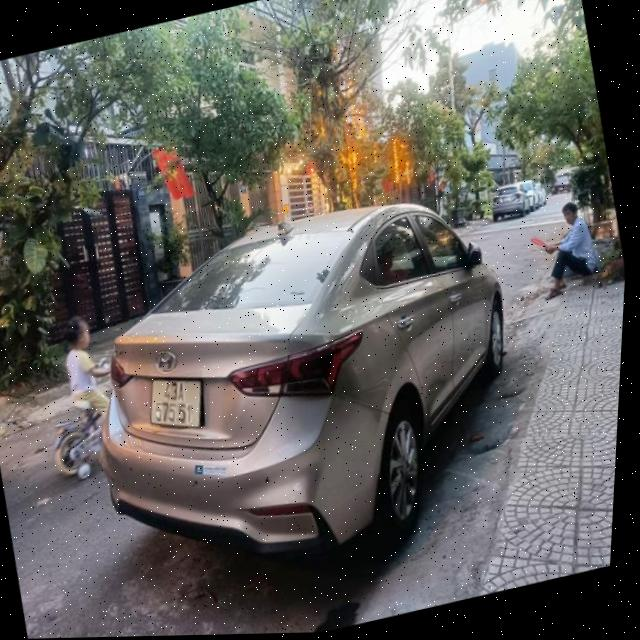car: (42, 167, 564, 617), (482, 170, 551, 226)
plate: (138, 364, 217, 438)
